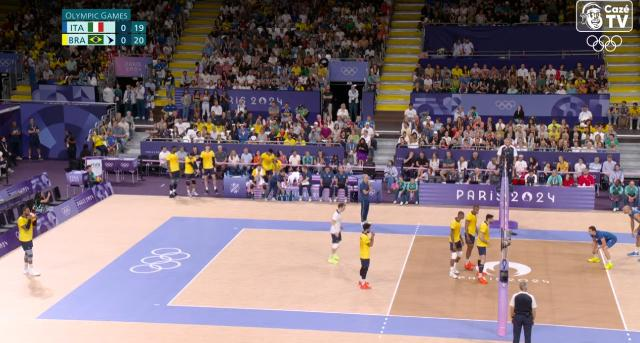Levantador: (357, 224, 377, 288)
Libero: (329, 202, 345, 264)
bola: (28, 213, 38, 225)
